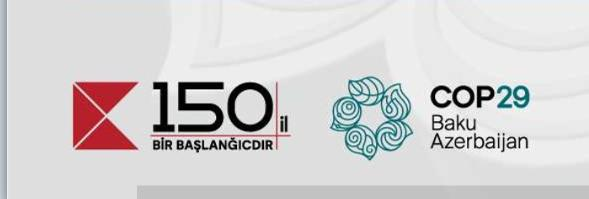Kapital Bank: (69, 80, 143, 152)
